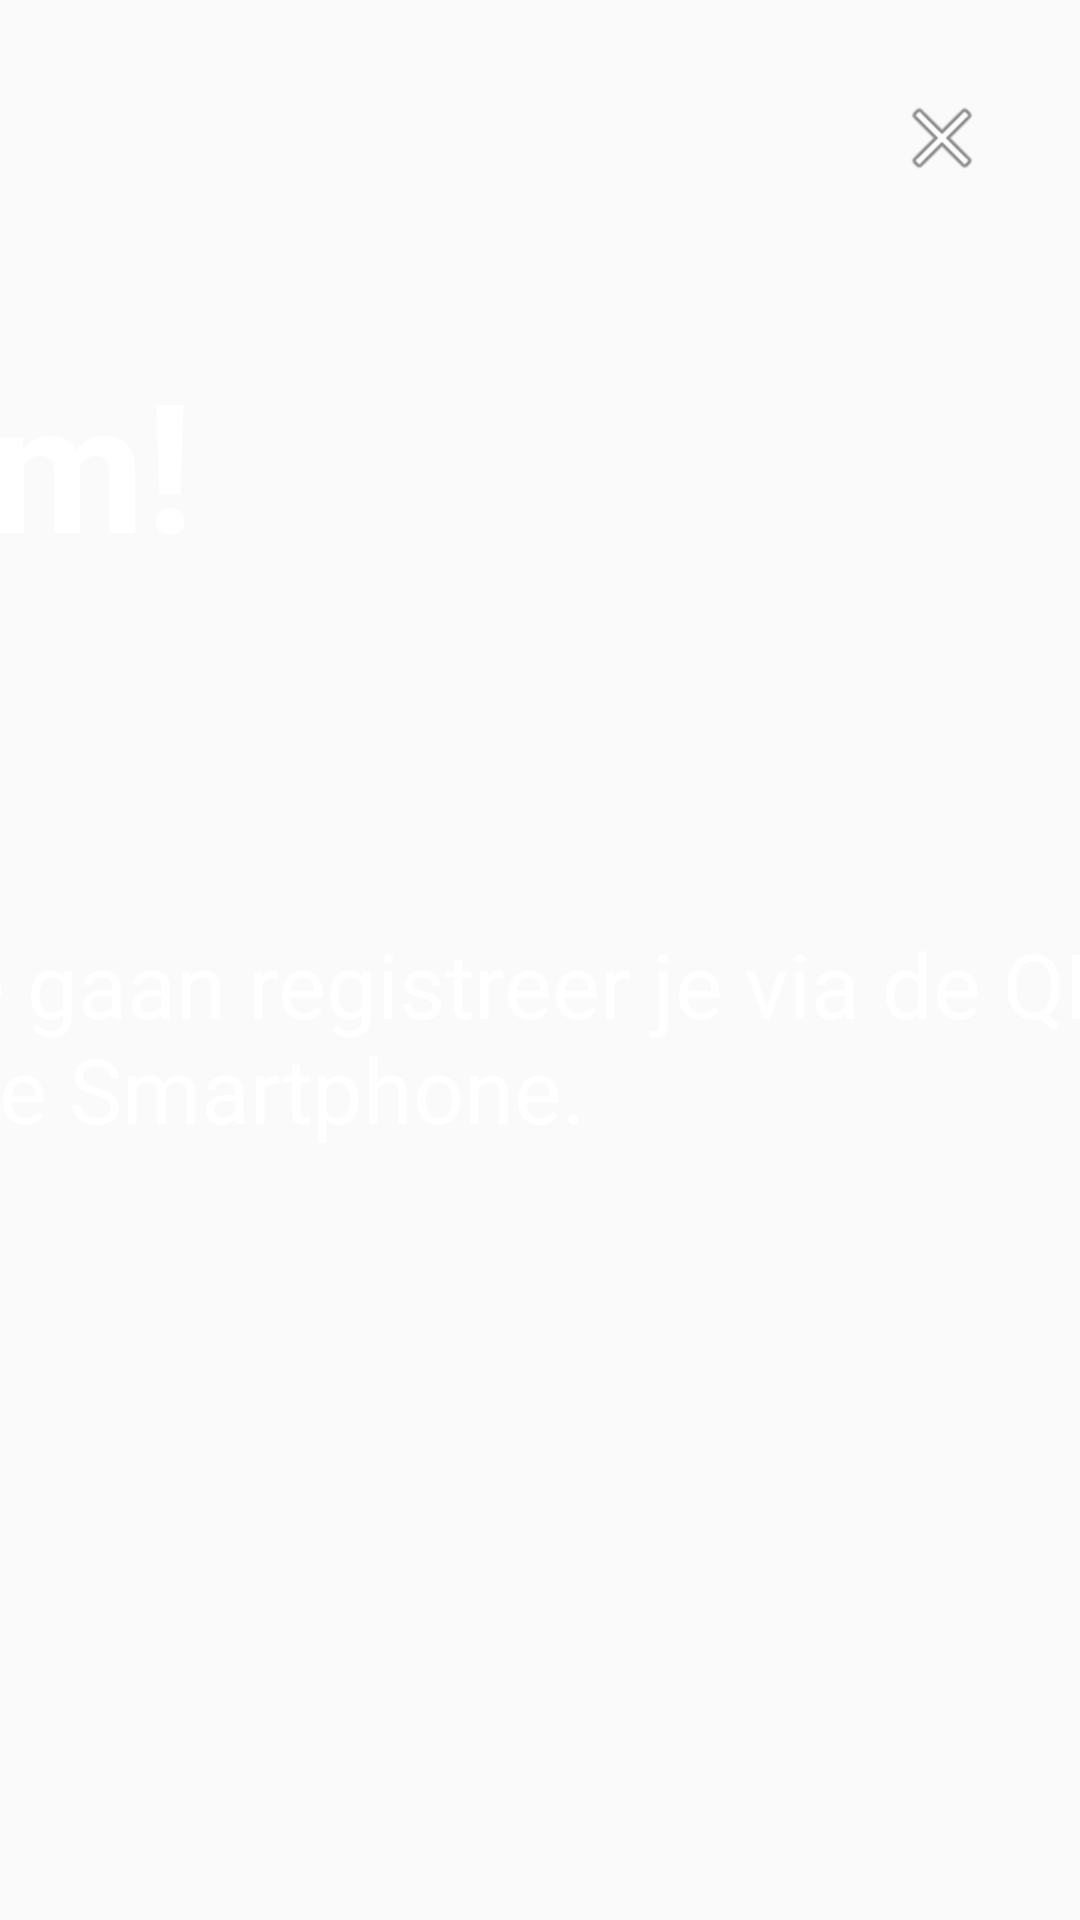

Screen size 1080x1920. Icon name, then its box in pixels as (x1, y1, x2, y2):
close clear cancel: (912, 108, 972, 168)
